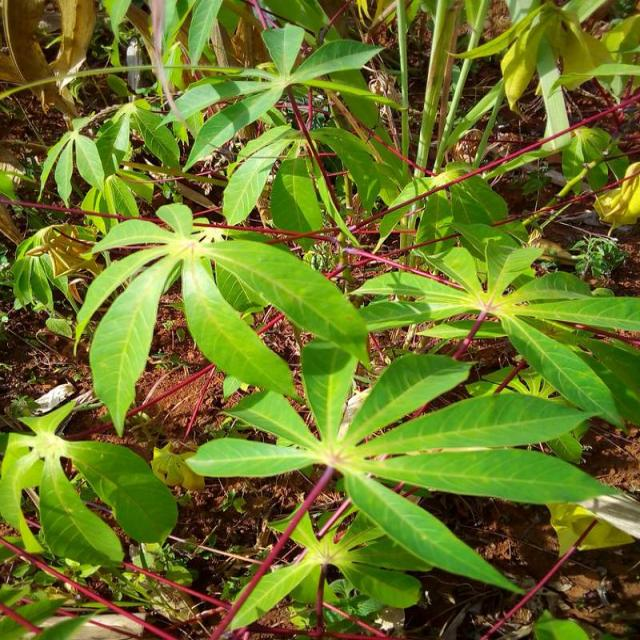cassava leaf: (3, 2, 639, 636), (74, 202, 370, 436), (2, 395, 179, 574)
